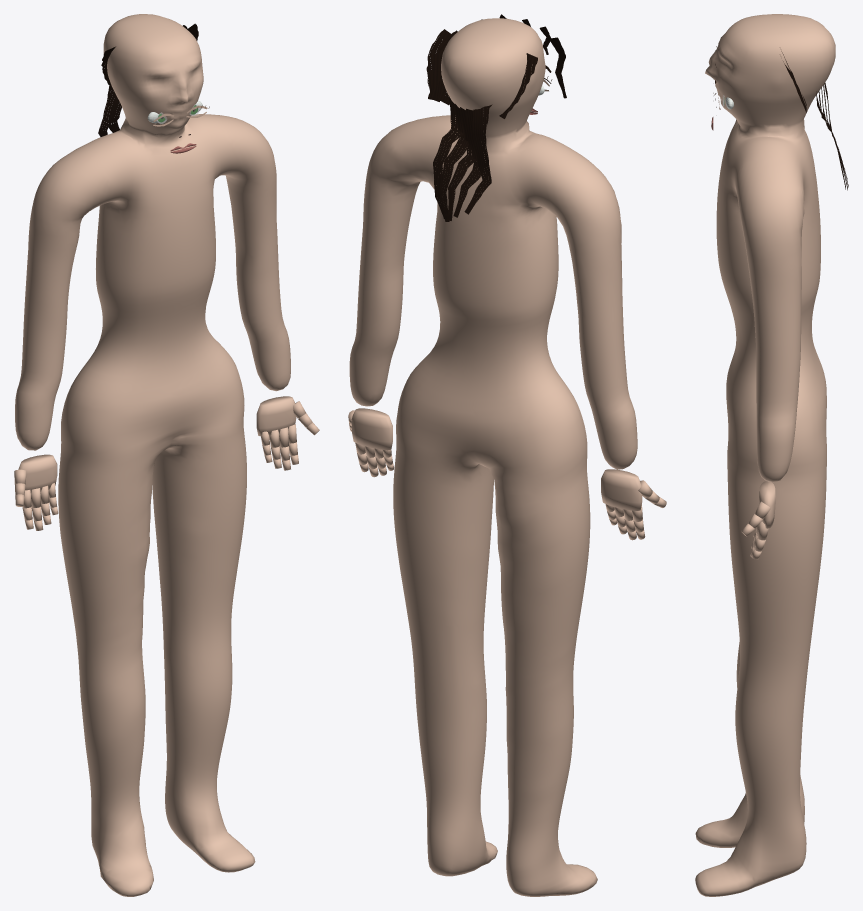
File: heroi_julia_base.glb
3 views of the same model, side by side, from view 1: azimuth 30°, elevation 25°; view 2: azimuth 150°, elevation 25°; view 3: azimuth 270°, elevation 25° (orthographic). The views are drawn at different scales.
Visible parts, largest first — view 1: JuliaBase; view 2: JuliaBase, rabo_mecha_1, rabo_mecha_5, rabo_mecha_4, rabo_mecha_3, rabo_mecha_2; view 3: JuliaBase.
Part boxes in pixels (<box>): JuliaBase: <box>14,14,319,896</box>; JuliaBase: <box>348,18,666,896</box>; rabo_mecha_1: <box>464,104,492,214</box>; rabo_mecha_5: <box>433,95,463,219</box>; rabo_mecha_4: <box>439,104,469,221</box>; rabo_mecha_3: <box>447,107,476,220</box>; rabo_mecha_2: <box>453,108,483,217</box>; JuliaBase: <box>695,14,835,896</box>.
Size of the model in its own units: 0.6556 by 1.72 by 0.2823.
Materials: 11 (2 with a texture image).
